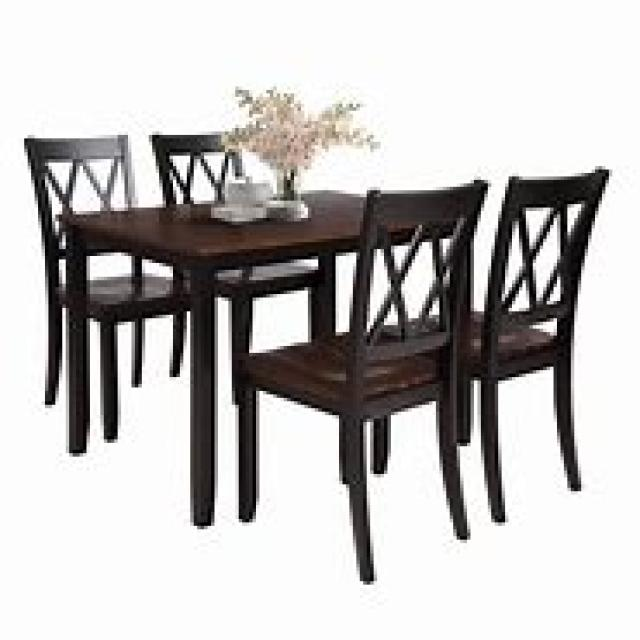chair: (235, 176, 488, 582), (367, 162, 609, 522), (21, 131, 187, 443), (145, 132, 325, 402)
table: (52, 183, 474, 526)
